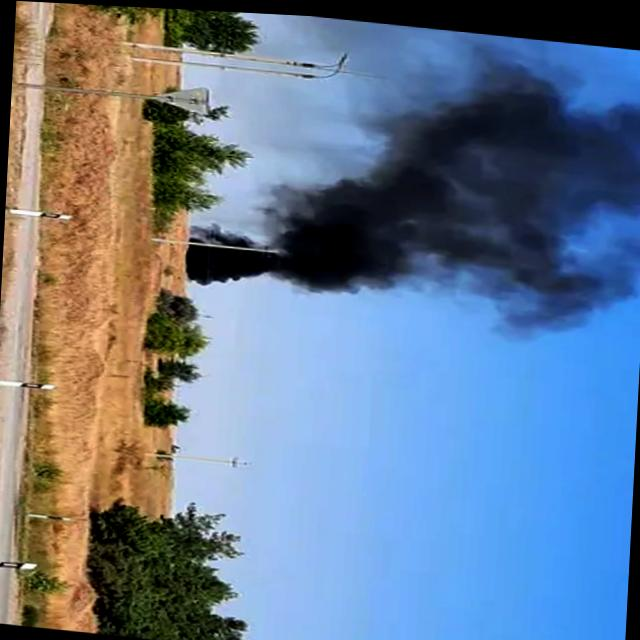Smoke: (186, 91, 640, 323)
